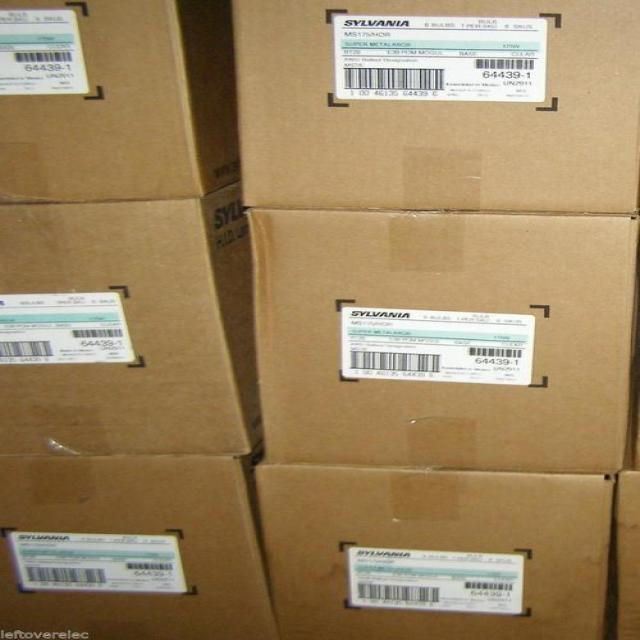box: (240, 198, 640, 487), (225, 0, 640, 220), (0, 180, 270, 464), (259, 441, 621, 640), (0, 442, 282, 639), (0, 0, 221, 201)
